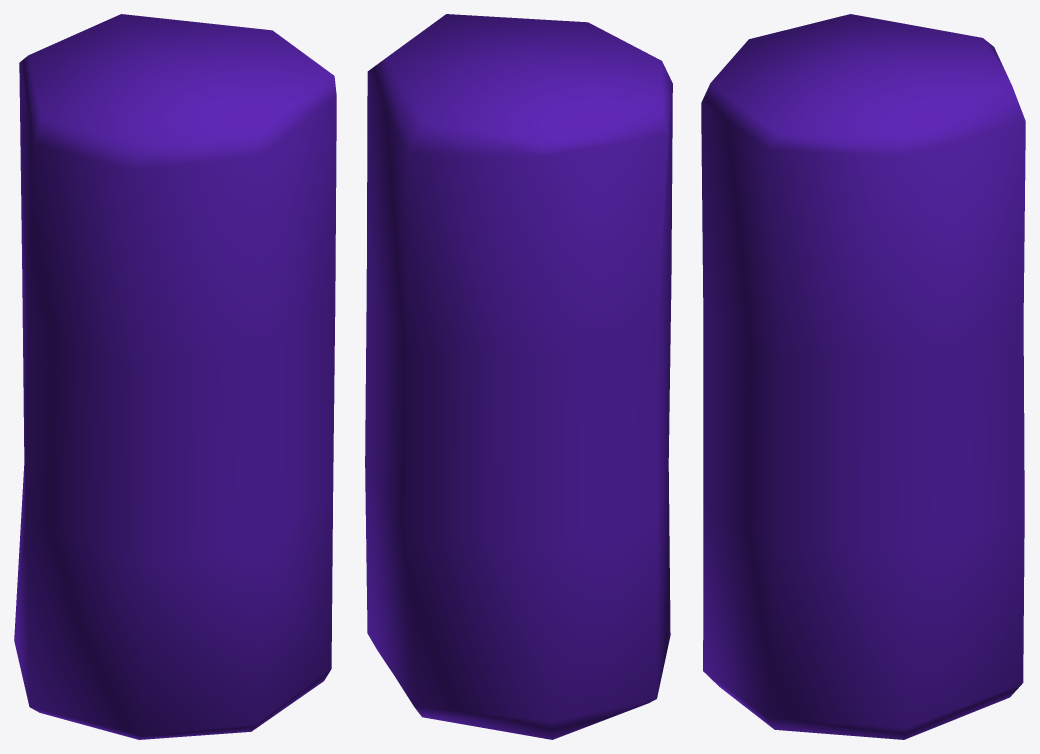
The model's file is column_02.FBX.
3 renders of one model, left to right at view 1: azimuth 30°, elevation 25°; view 2: azimuth 150°, elevation 25°; view 3: azimuth 270°, elevation 25°, orthographic. The views are drawn at different scales.
Parts seen in each view (by area): view 1: column_02; view 2: column_02; view 3: column_02.
Part boxes in pixels (box(x1,y1,x2,y2)): column_02: box(14, 14, 336, 739); column_02: box(365, 14, 672, 739); column_02: box(701, 14, 1025, 739).
Size of the model in its own units: 9.03 by 18.98 by 9.07.
